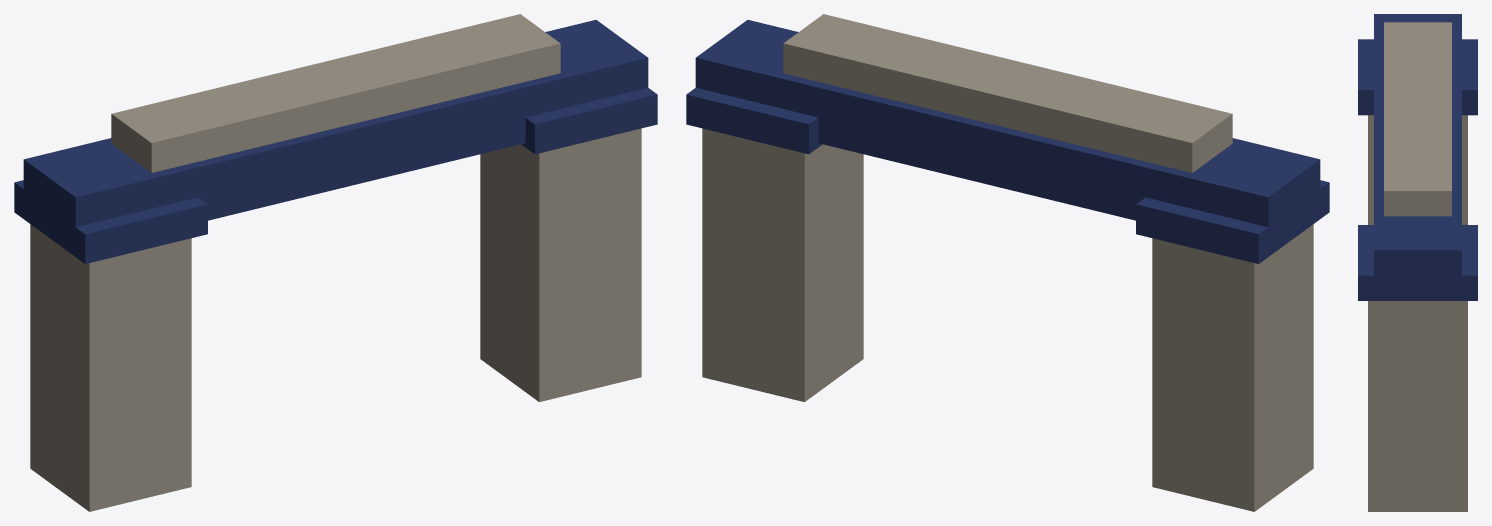
Rendered from gate-low.glb.
3 views of the same model, side by side, from view 1: azimuth 30°, elevation 25°; view 2: azimuth 150°, elevation 25°; view 3: azimuth 270°, elevation 25° (orthographic). The views are drawn at different scales.
Bounding box in the file's own units: 28 × 16.1 × 6.
